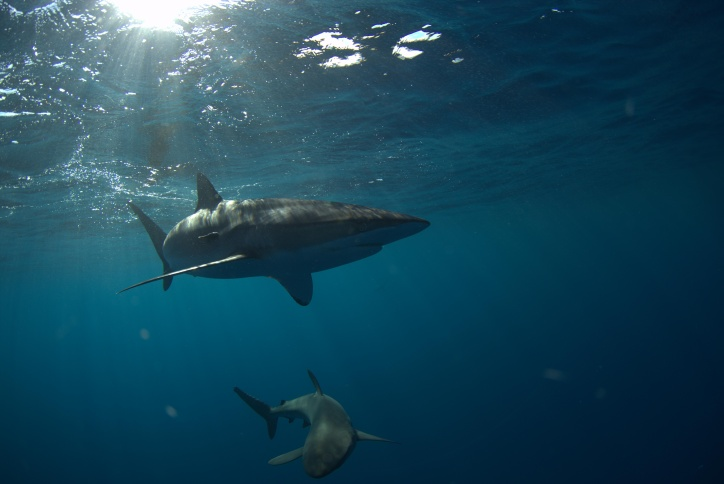Sedoso: (95, 159, 434, 328)
